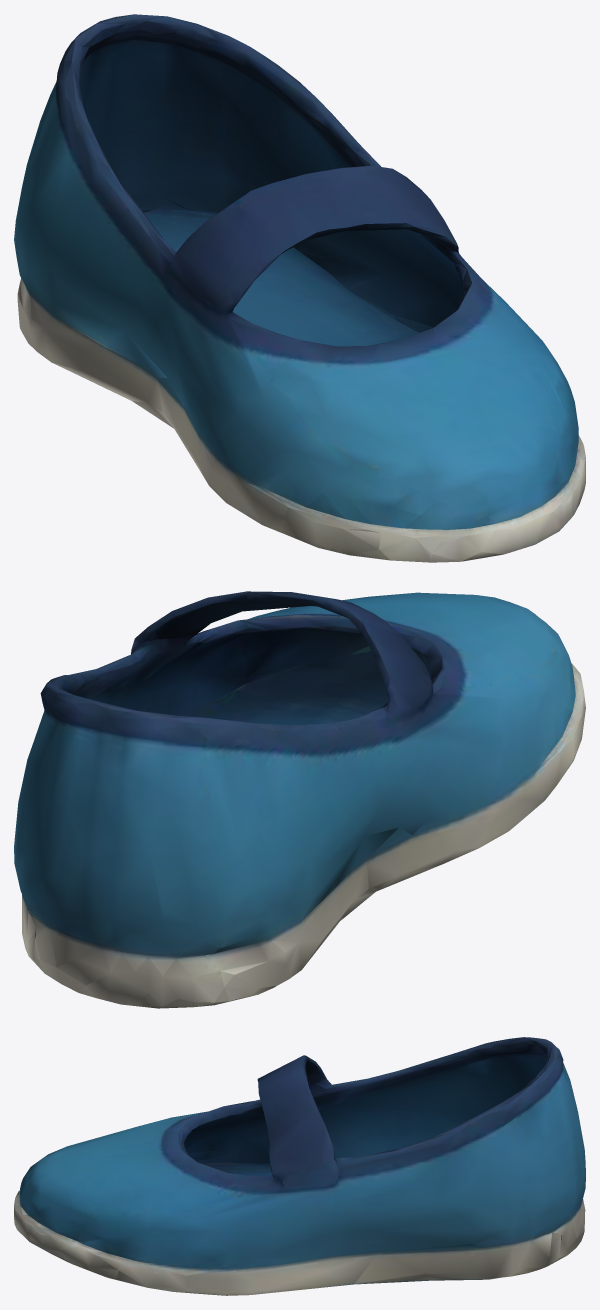
The model's file is slipper.glb.
3 views of the same model, one above another, from view 1: azimuth 30°, elevation 25°; view 2: azimuth 150°, elevation 25°; view 3: azimuth 270°, elevation 25° (orthographic). The views are drawn at different scales.
Parts seen in each view (by area): view 1: geometry_0; view 2: geometry_0; view 3: geometry_0.
Boxes of the visible parts, x1,y1,x2,y2 form: geometry_0: (14, 14, 585, 562); geometry_0: (14, 591, 585, 1008); geometry_0: (14, 1037, 585, 1295).
Bounding box in the file's own units: 0.0957 × 0.0795 × 0.2197.
Materials: 1 (1 with a texture image).
